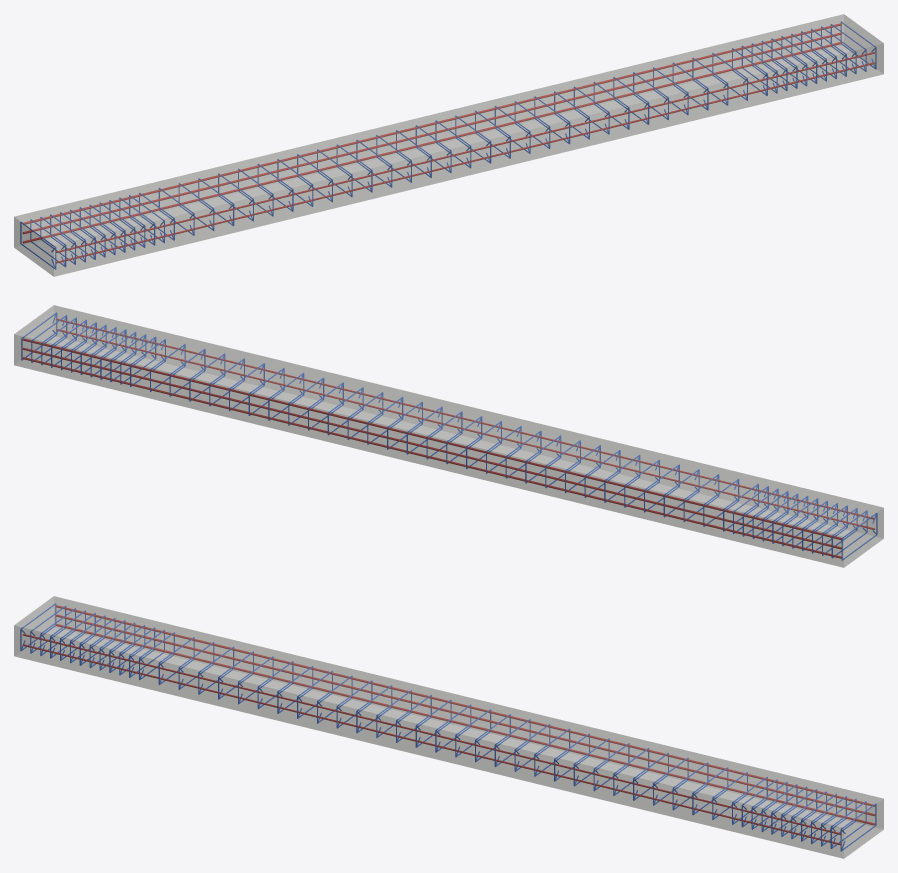
The model's file is rebar.obj.
The picture shows the model from 3 angles, top to bottom: view 1: azimuth 30°, elevation 25°; view 2: azimuth 150°, elevation 25°; view 3: azimuth 330°, elevation 25°; orthographic projection.
Visible parts, largest first — view 1: Concrete_Beam_300x700x8400, Rebar_Bottom_D20_3, Rebar_Bottom_D20_2, Rebar_Bottom_D20_1, Rebar_Top_D16_2, Rebar_Top_D16_1; view 2: Concrete_Beam_300x700x8400, Rebar_Bottom_D20_1, Rebar_Bottom_D20_2, Rebar_Bottom_D20_3, Rebar_Top_D16_1, Rebar_Top_D16_2; view 3: Concrete_Beam_300x700x8400, Rebar_Bottom_D20_1, Rebar_Bottom_D20_2, Rebar_Bottom_D20_3, Rebar_Top_D16_1, Rebar_Top_D16_2.
Part boxes in pixels (<box>): Concrete_Beam_300x700x8400: <box>14,14,883,276</box>; Rebar_Bottom_D20_3: <box>23,23,841,224</box>; Rebar_Bottom_D20_2: <box>23,32,841,233</box>; Rebar_Bottom_D20_1: <box>23,42,841,243</box>; Rebar_Top_D16_2: <box>56,52,874,252</box>; Rebar_Top_D16_1: <box>56,62,874,263</box>; Concrete_Beam_300x700x8400: <box>14,305,883,567</box>; Rebar_Bottom_D20_1: <box>22,357,841,558</box>; Rebar_Bottom_D20_2: <box>23,348,841,549</box>; Rebar_Bottom_D20_3: <box>23,338,841,539</box>; Rebar_Top_D16_1: <box>56,329,874,529</box>; Rebar_Top_D16_2: <box>56,318,873,519</box>; Concrete_Beam_300x700x8400: <box>14,596,883,858</box>; Rebar_Bottom_D20_1: <box>56,624,874,825</box>; Rebar_Bottom_D20_2: <box>56,614,874,815</box>; Rebar_Bottom_D20_3: <box>56,605,875,806</box>; Rebar_Top_D16_1: <box>23,644,840,844</box>; Rebar_Top_D16_2: <box>23,634,840,834</box>.
Size of the model in its own units: 8400 by 300 by 700.
